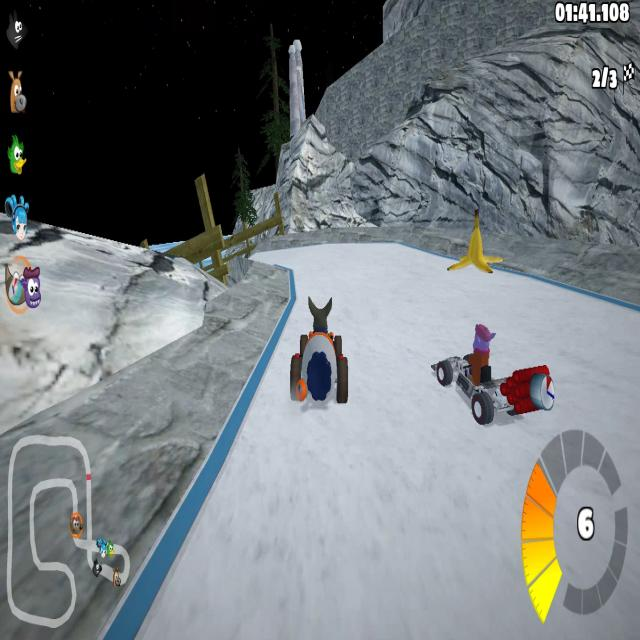enemy_kart: (431, 330, 555, 420)
obstacle: (446, 206, 503, 286)
player_kart: (290, 290, 350, 426)
track: (276, 244, 400, 284)
